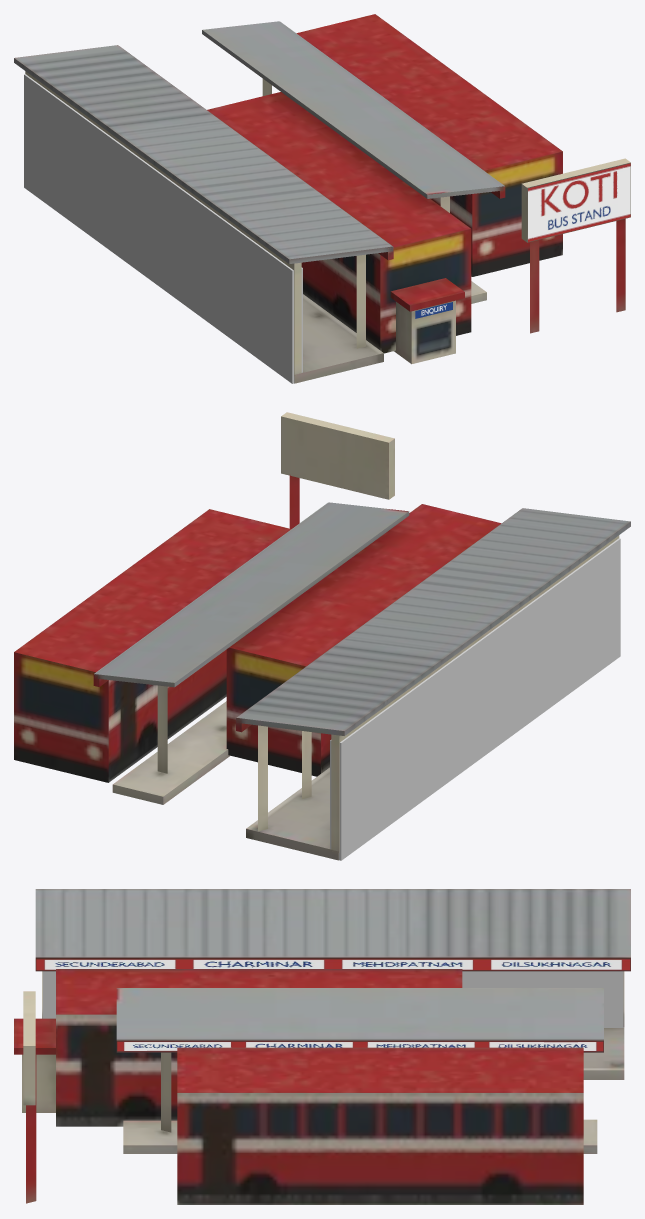
The model's file is koti_bus_stand.glb.
3 views of the same model, one above another, from view 1: azimuth 30°, elevation 25°; view 2: azimuth 150°, elevation 25°; view 3: azimuth 270°, elevation 25° (orthographic). The views are drawn at different scales.
Parts seen in each view (by area): view 1: koti_bus_stand_body, COL_koti_wall, koti_bus_stand_sheet; view 2: koti_bus_stand_body, COL_koti_wall; view 3: koti_bus_stand_body, koti_bus_stand_sheet, COL_koti_wall.
Part boxes in pixels (bbox=[...]): koti_bus_stand_body: bbox=[14, 14, 630, 383]; COL_koti_wall: bbox=[24, 74, 302, 383]; koti_bus_stand_sheet: bbox=[415, 163, 630, 318]; koti_bus_stand_body: bbox=[14, 412, 630, 860]; COL_koti_wall: bbox=[330, 538, 620, 860]; koti_bus_stand_body: bbox=[14, 889, 630, 1204]; koti_bus_stand_sheet: bbox=[36, 959, 630, 1051]; COL_koti_wall: bbox=[43, 971, 623, 1027].
Size of the model in its own units: 62.8 by 26.1 by 91.4.
2 materials, 2 textured.
